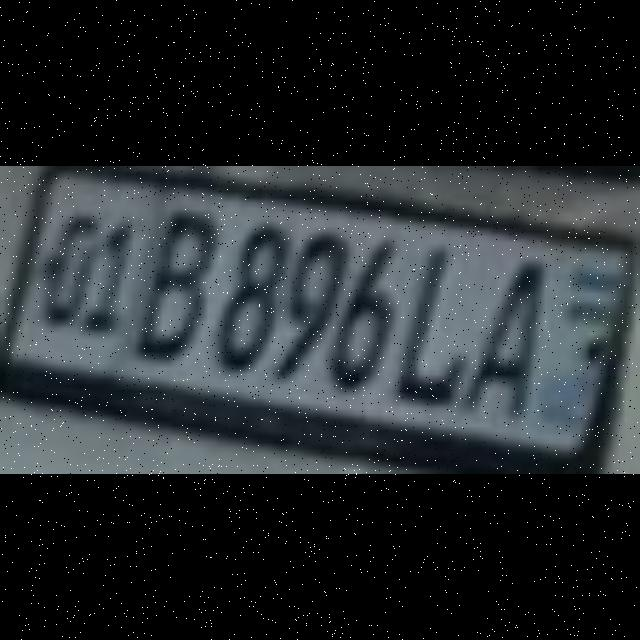0: (34, 212, 86, 321)
1: (80, 218, 126, 332)
6: (326, 235, 394, 378)
8: (212, 218, 280, 366)
9: (269, 222, 343, 372)
A: (463, 258, 537, 407)
B: (132, 206, 206, 354)
L: (400, 240, 458, 394)
